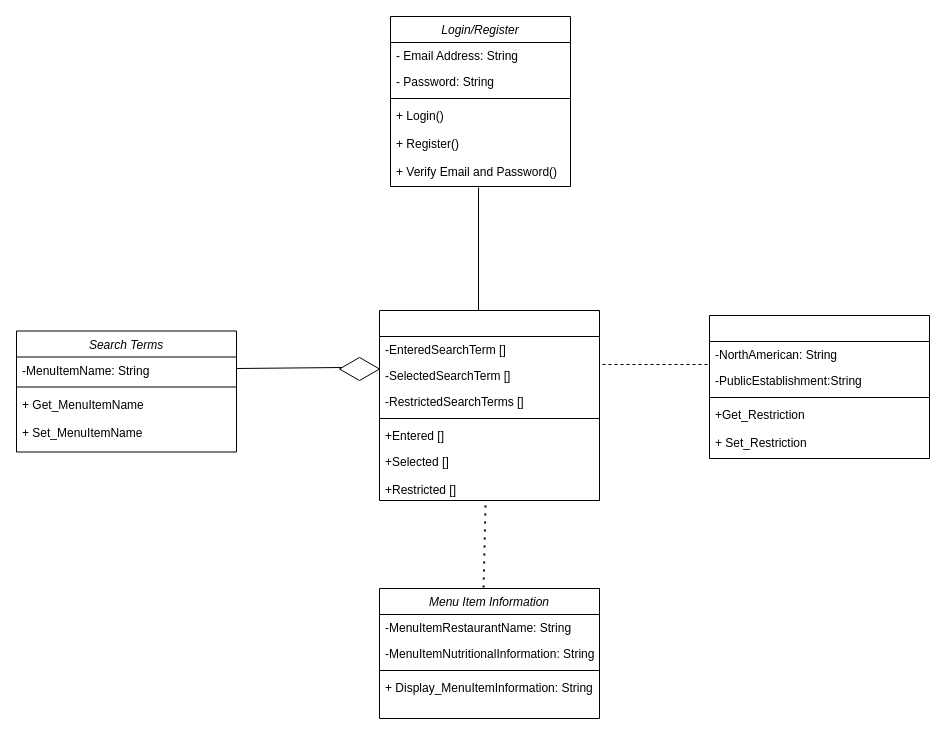
The diagram is 946 pixels wide and 735 high, and some of its shapes have lost their labels. The box of each missing label's shape, as (x1, y1, x2, y2) in pixels:
Menu Item Restriction: (708, 314, 930, 458)
Menu Item Website: (378, 310, 600, 500)
